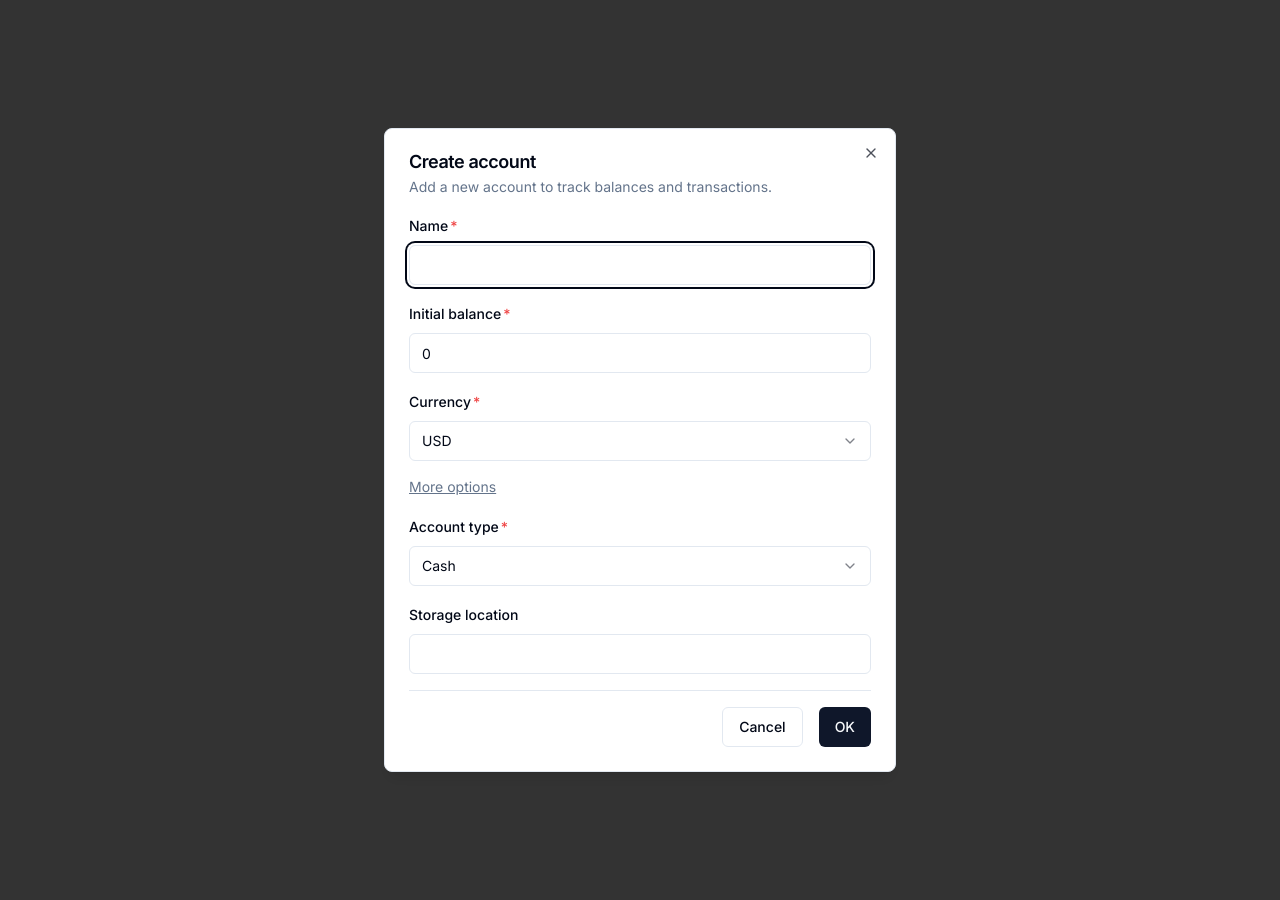
CreateAccountDialog › blocks submission with an empty name and shows the inline error
Click the button "OK" at (845, 727), box [819,707,871,747]
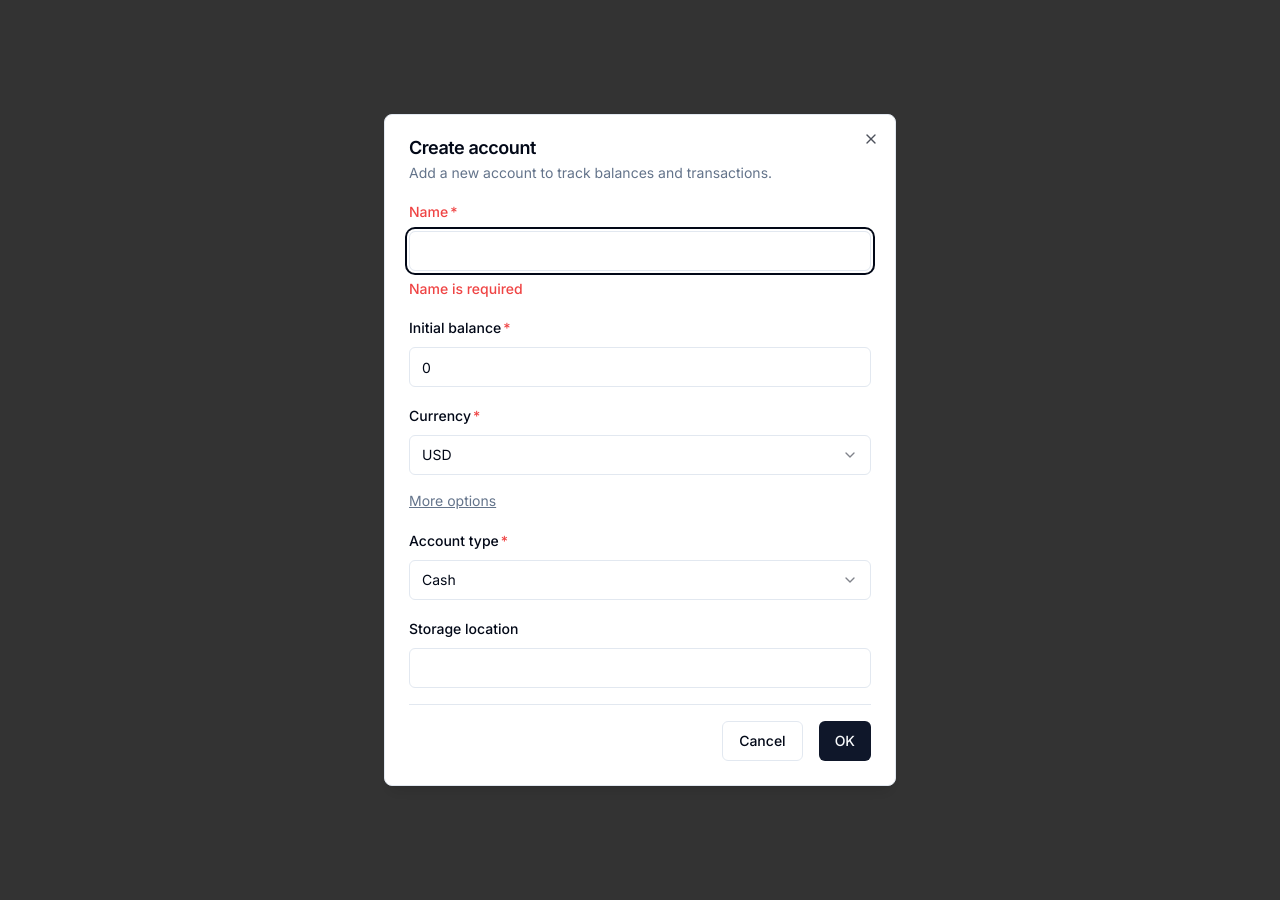
Result: the text "Name is required" is shown at [409,280,523,297]
